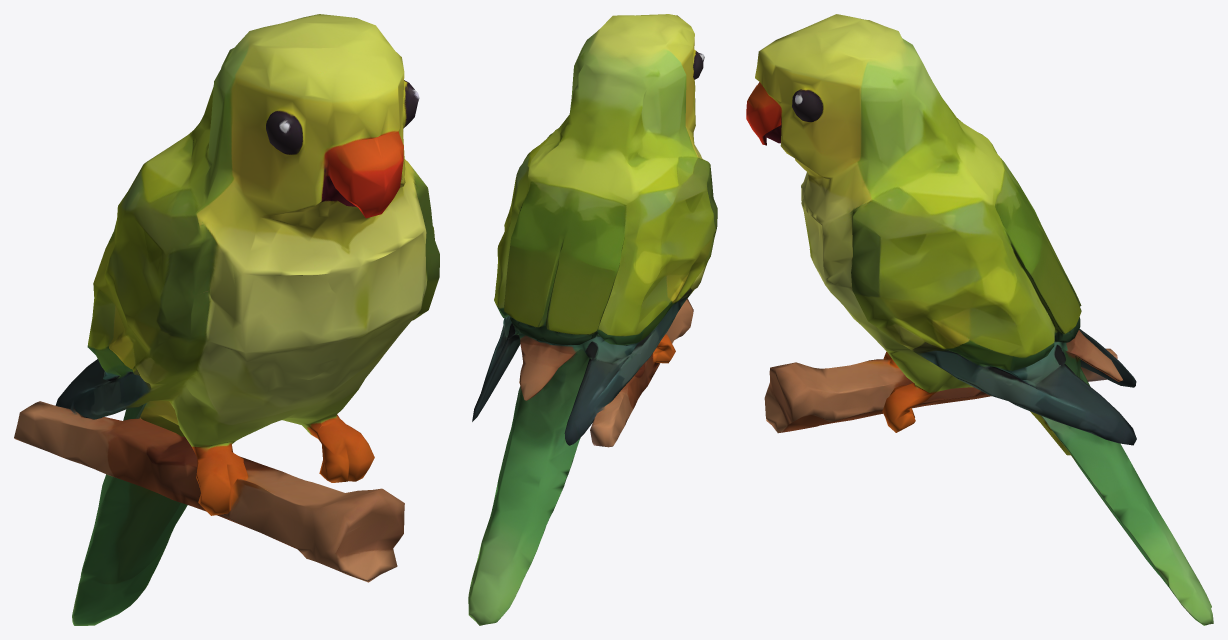
Rendered from parakeet.glb.
3 renders of one model, left to right at view 1: azimuth 30°, elevation 25°; view 2: azimuth 150°, elevation 25°; view 3: azimuth 270°, elevation 25°, orthographic. The views are drawn at different scales.
Visible parts, largest first — view 1: tripo_node_90422091-ca9f-486c-b34c-d338455e4e0a; view 2: tripo_node_90422091-ca9f-486c-b34c-d338455e4e0a; view 3: tripo_node_90422091-ca9f-486c-b34c-d338455e4e0a.
Part boxes in pixels (x1,y1,x2,y2): tripo_node_90422091-ca9f-486c-b34c-d338455e4e0a: (14,14,439,625); tripo_node_90422091-ca9f-486c-b34c-d338455e4e0a: (468,14,717,625); tripo_node_90422091-ca9f-486c-b34c-d338455e4e0a: (746,14,1213,625).
Bounding box in the file's own units: 0.3791 × 1 × 0.7172.
1 material, 1 textured.
